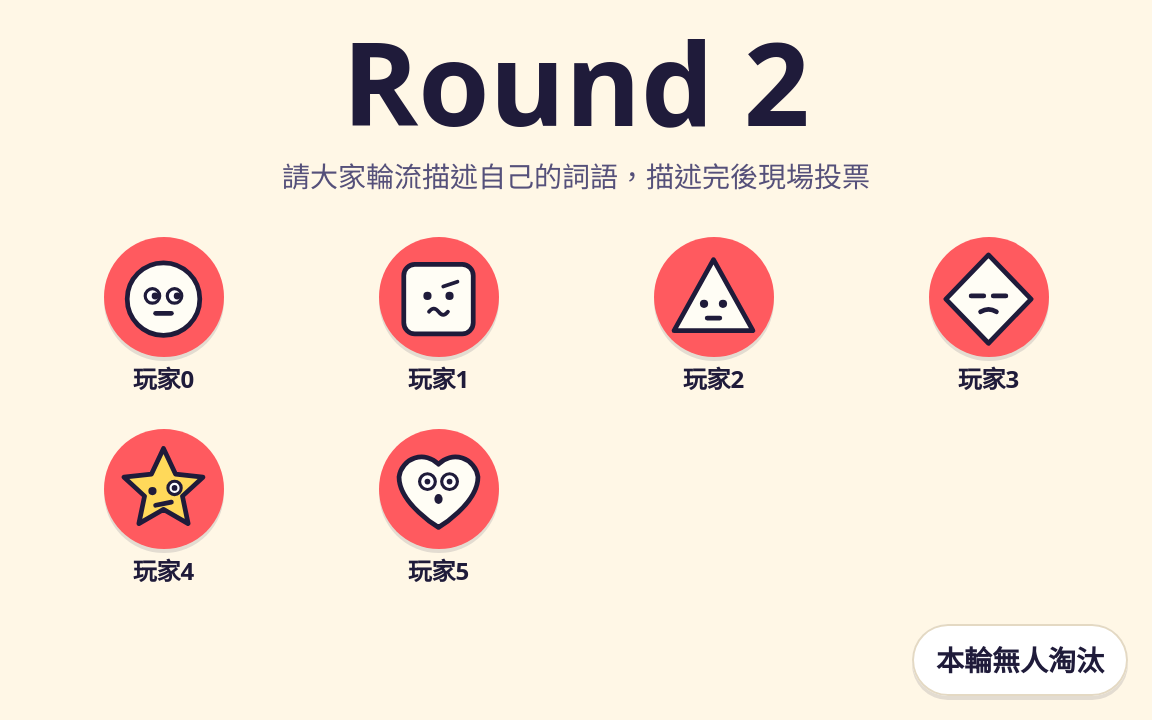
Scenario: HostPlaying screen › closes the dialog and toasts when the server rejects, keeping the room state
The width and height of the screenshot is (1152, 720).
Expected: the heading "Round 2" is shown, [342,24,810,139]
Click the button "玩家3": (988, 317) [920,229,1056,405]
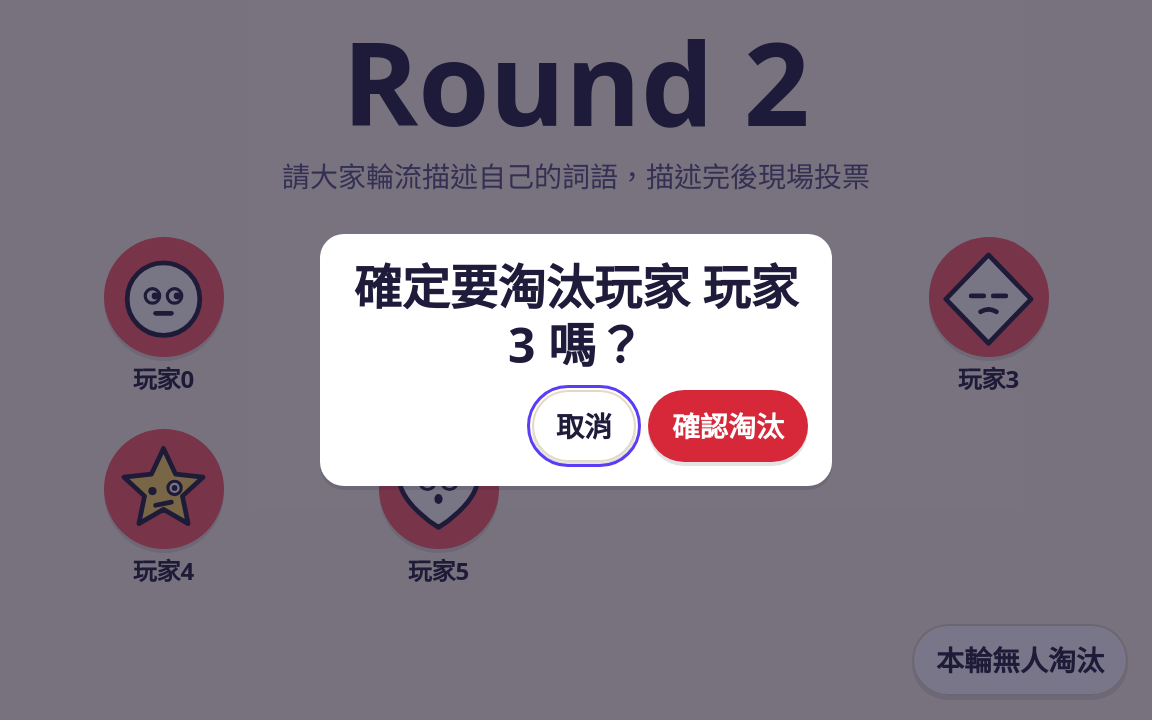
Click the button "確認淘汰": (728, 426) [648,390,808,462]
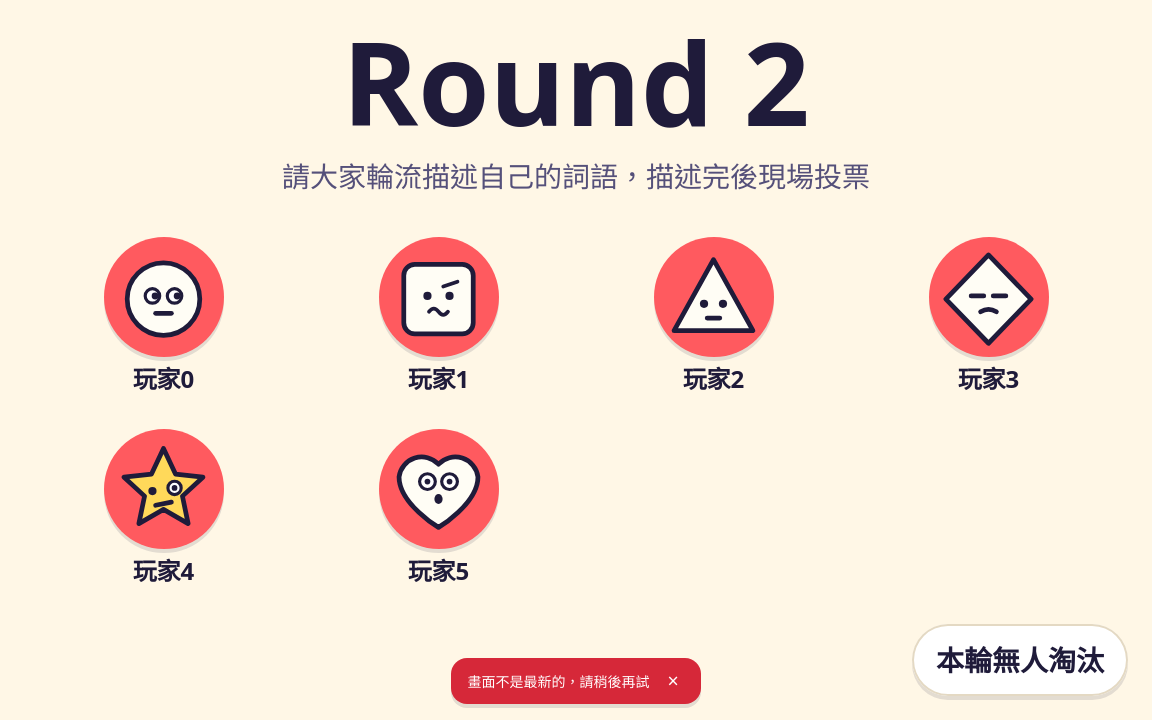
Expected: the heading "Round 2" is shown, [342,24,810,139]
Result: the dialog is gone
Result: the text "畫面不是最新的，請稍後再試" is shown at [467,671,649,691]
